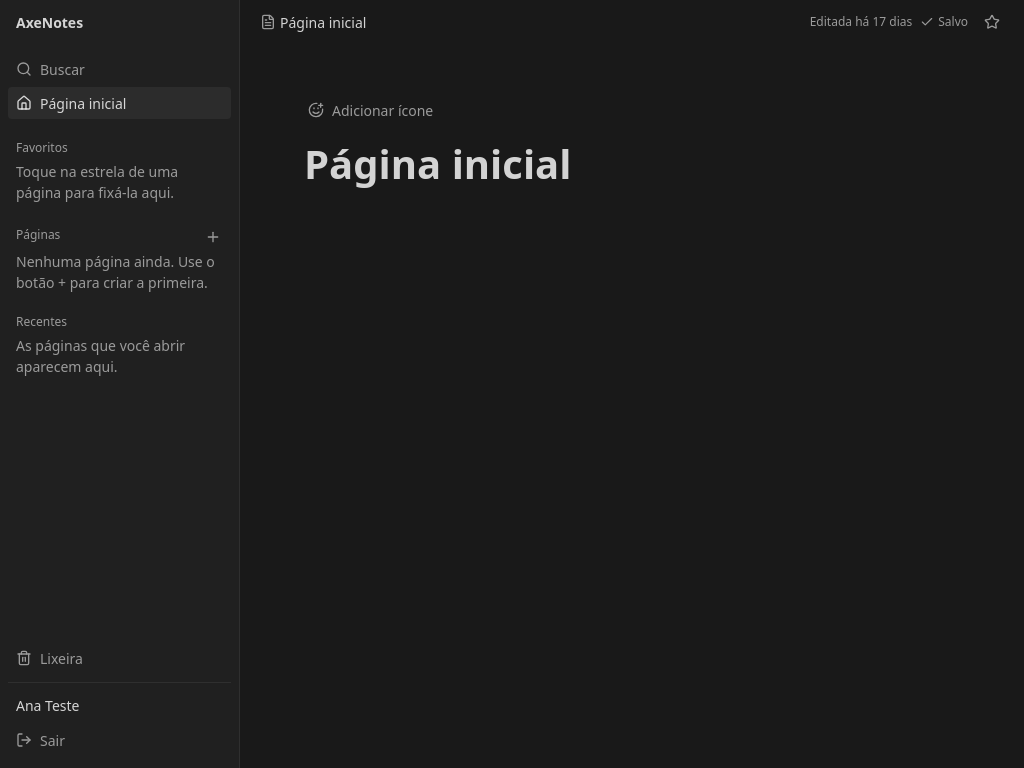
auth in the app shell › signs out only this device and goes back to the sign-in screen
Click the button "Sair" at (120, 740), box x1=8 y1=724 x2=231 y2=756
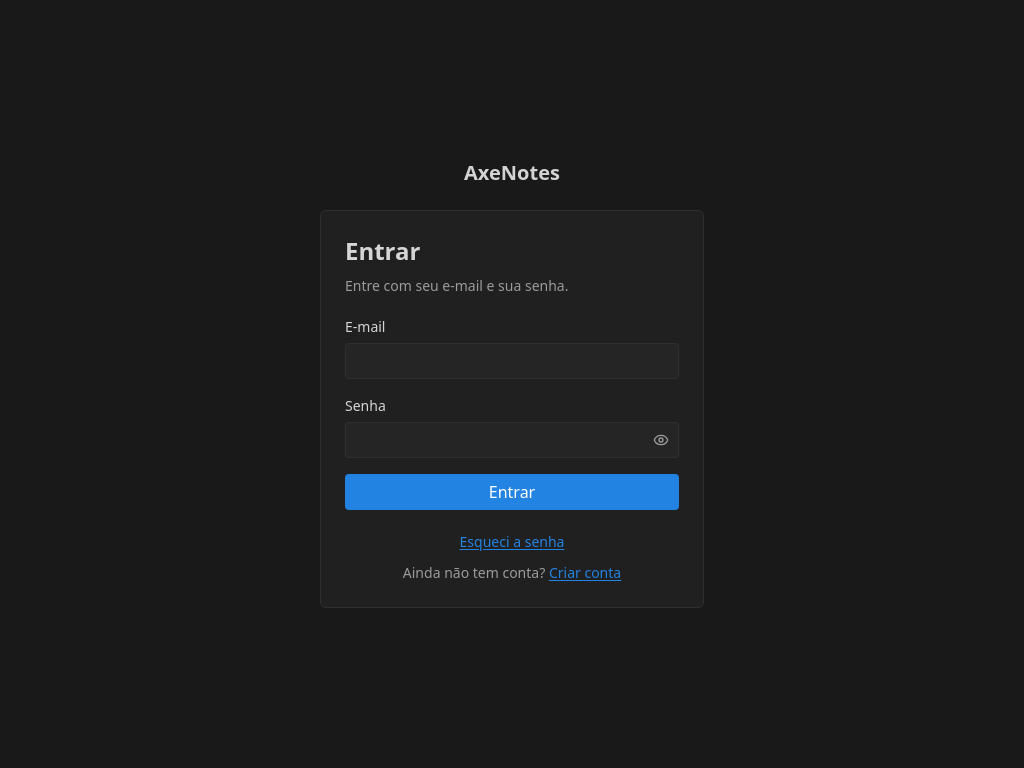
Result: the heading "Entrar" is shown at x1=345 y1=234 x2=420 y2=267
